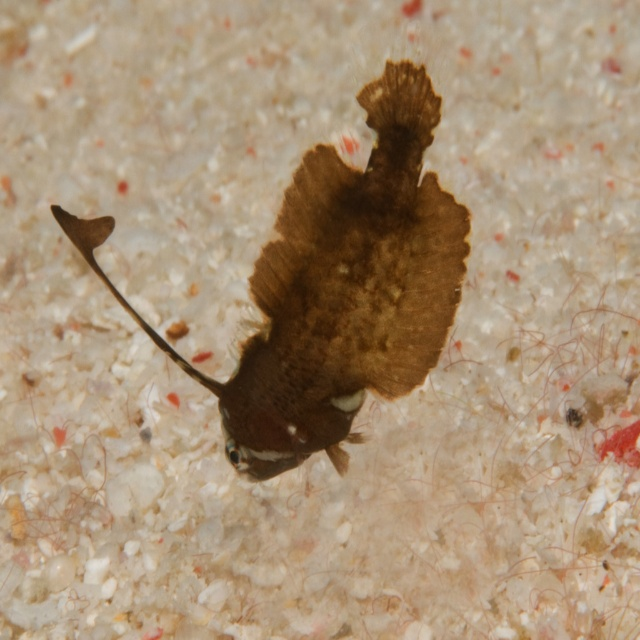Fish: (53, 40, 474, 477)
